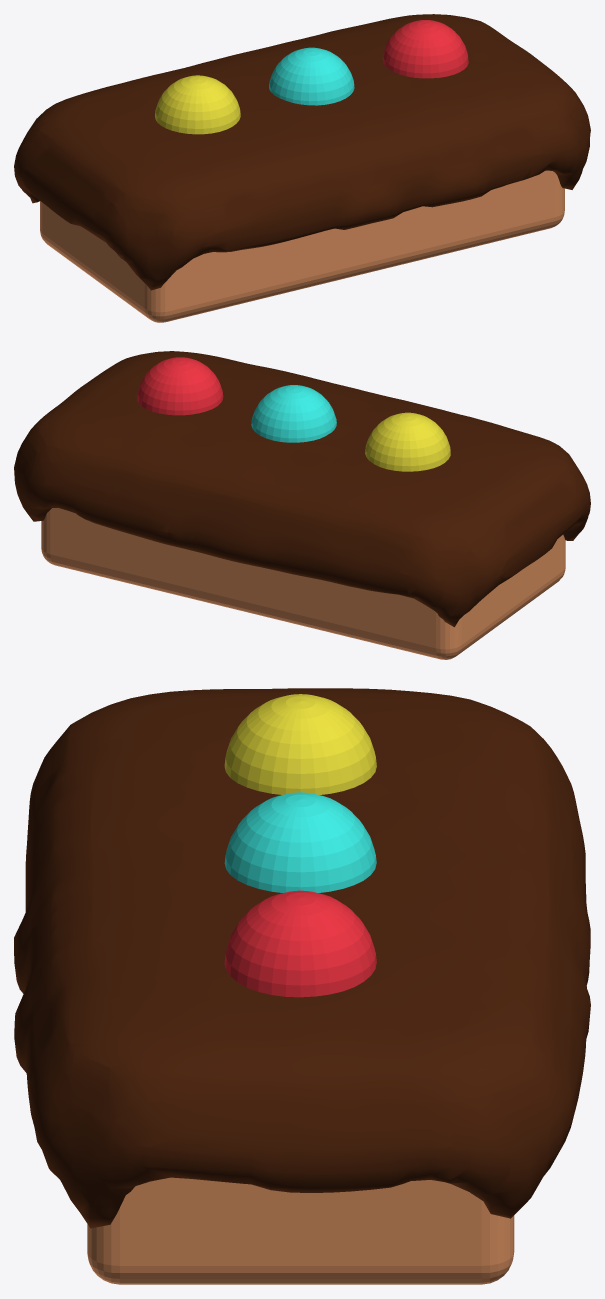
File: Tramp.fbx
3 renders of one model, top to bottom at view 1: azimuth 30°, elevation 25°; view 2: azimuth 150°, elevation 25°; view 3: azimuth 270°, elevation 25°, orthographic. The views are drawn at different scales.
Parts seen in each view (by area): view 1: Liquid Domain, Cube, Sphere, Sphere.002, Sphere.001; view 2: Liquid Domain, Cube, Sphere, Sphere.002, Sphere.001; view 3: Liquid Domain, Cube, Sphere.002, Sphere, Sphere.001.
Part boxes in pixels (x1=…): Liquid Domain: x1=14, y1=14, x2=590, y2=290; Cube: x1=40, y1=170, x2=564, y2=322; Sphere: x1=155, y1=75, x2=240, y2=134; Sphere.002: x1=382, y1=20, x2=468, y2=78; Sphere.001: x1=269, y1=47, x2=354, y2=105; Liquid Domain: x1=14, y1=351, x2=590, y2=627; Cube: x1=41, y1=508, x2=565, y2=659; Sphere: x1=365, y1=412, x2=450, y2=471; Sphere.002: x1=137, y1=357, x2=223, y2=415; Sphere.001: x1=251, y1=385, x2=336, y2=442; Liquid Domain: x1=14, y1=688, x2=590, y2=1228; Cube: x1=87, y1=1177, x2=514, y2=1284; Sphere.002: x1=224, y1=890, x2=376, y2=997; Sphere: x1=224, y1=694, x2=376, y2=794; Sphere.001: x1=224, y1=792, x2=376, y2=892.
Size of the model in its own units: 467 by 167 by 270.
